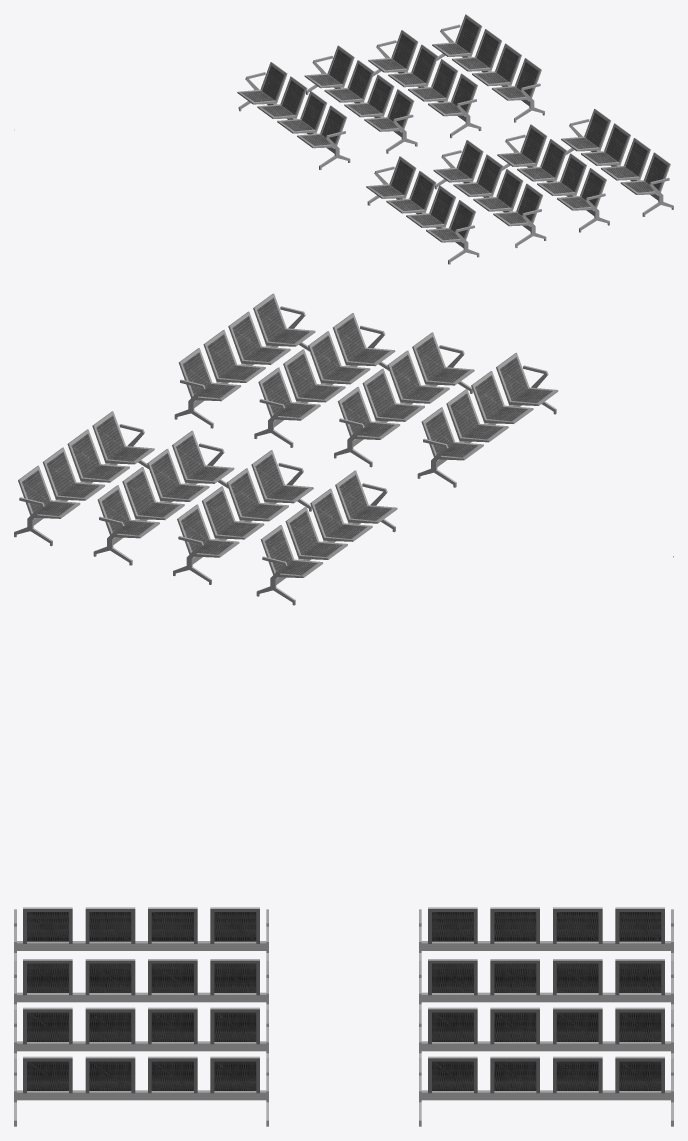
File: chair_row_grp.fbx
3 views of the same model, one above another, from view 1: azimuth 30°, elevation 25°; view 2: azimuth 150°, elevation 25°; view 3: azimuth 270°, elevation 25° (orthographic). The views are drawn at different scales.
Visible parts, largest first — view 1: chair_row_9, chair_row_2, chair_row_8, chair_row_7, chair_row_3, chair_row_6, chair_row_4, chair_row_5; view 2: chair_row_9, chair_row_7, chair_row_2, chair_row_8, chair_row_4, chair_row_5, chair_row_3, chair_row_6; view 3: chair_row_5, chair_row_4, chair_row_6, chair_row_3, chair_row_7, chair_row_2, chair_row_8, chair_row_9.
Boxes of the visible parts, x1,y1,x2,y2 form: chair_row_9: [237, 62, 350, 169]; chair_row_2: [304, 45, 417, 153]; chair_row_8: [366, 156, 479, 264]; chair_row_7: [433, 140, 546, 248]; chair_row_3: [368, 30, 481, 138]; chair_row_6: [497, 124, 609, 232]; chair_row_4: [432, 14, 544, 122]; chair_row_5: [561, 108, 673, 216]; chair_row_9: [256, 470, 397, 605]; chair_row_7: [334, 332, 474, 467]; chair_row_2: [173, 450, 313, 584]; chair_row_8: [417, 352, 558, 487]; chair_row_4: [14, 411, 154, 546]; chair_row_5: [174, 293, 315, 428]; chair_row_3: [93, 430, 234, 565]; chair_row_6: [254, 313, 395, 447]; chair_row_5: [14, 1056, 268, 1126]; chair_row_4: [419, 1056, 673, 1126]; chair_row_6: [14, 1007, 268, 1058]; chair_row_3: [419, 1007, 673, 1058]; chair_row_7: [14, 959, 268, 1009]; chair_row_2: [419, 959, 673, 1009]; chair_row_8: [14, 907, 268, 960]; chair_row_9: [419, 907, 673, 960].
Bounding box in the file's own units: 933 × 136 × 694.
3 materials, 1 textured.
